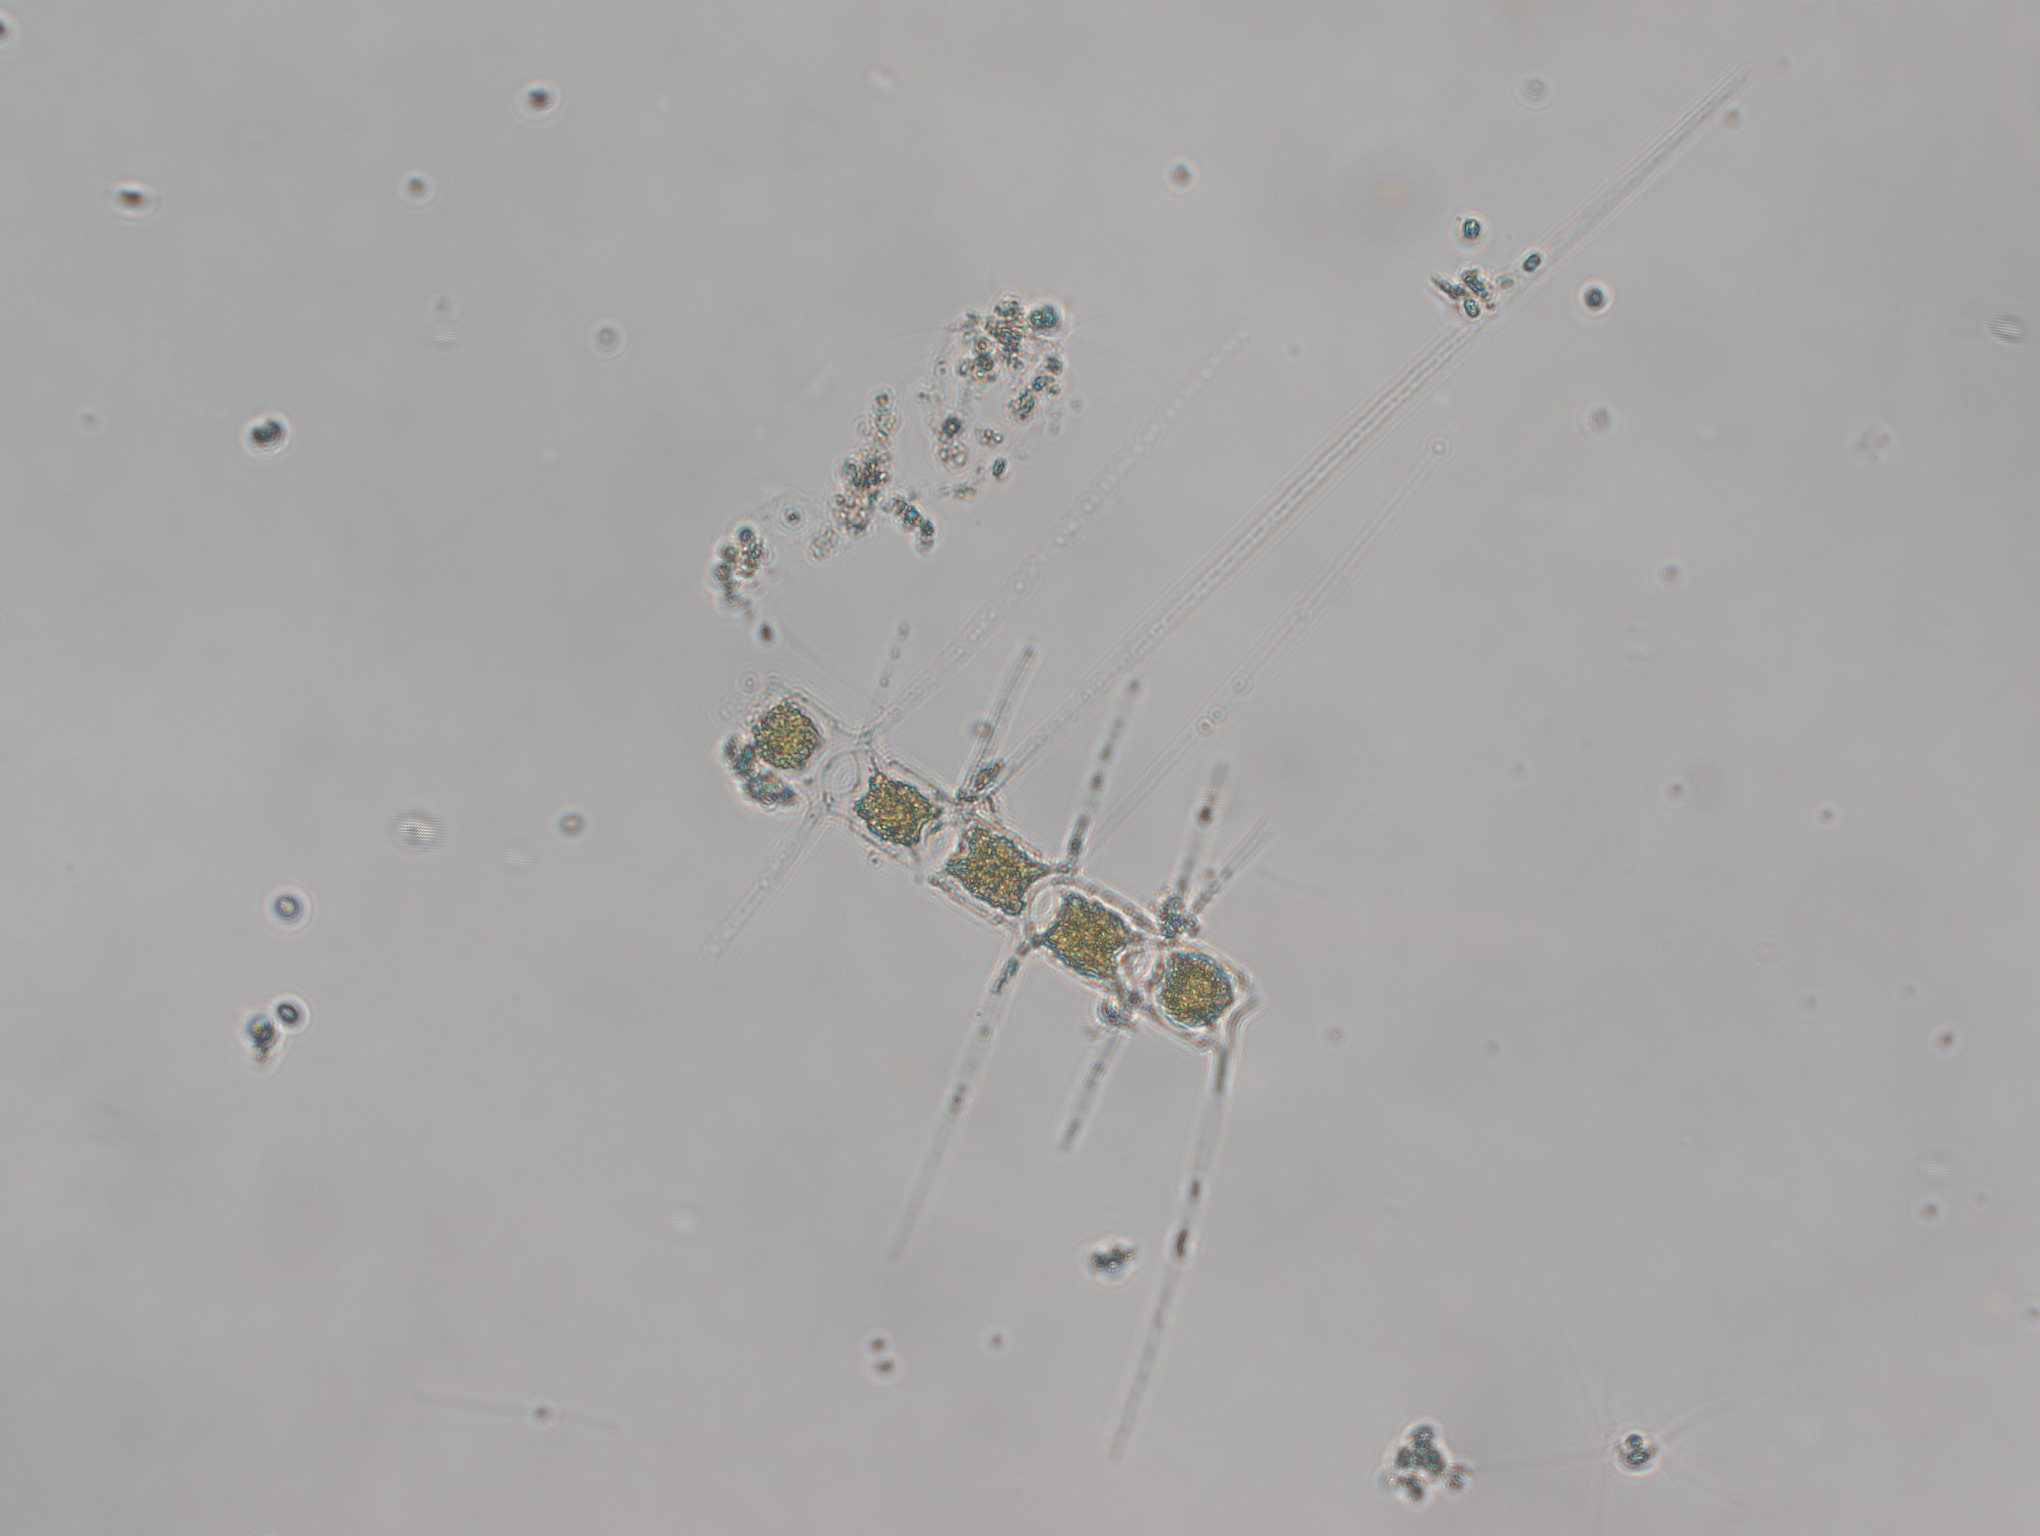chaetoceros: (722, 647, 1300, 1465)
